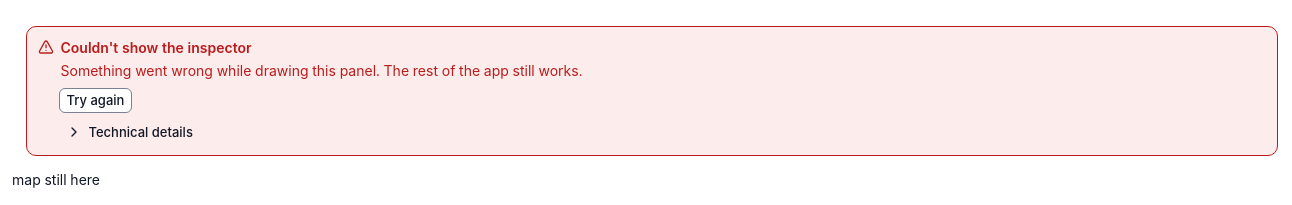
Test case: PanelErrorBoundary › contains the failure to its own panel and offers a retry
The image size is (1292, 205).
Expected: the message shows "Couldn't show the inspector", top-left (60, 38), bottom-right (252, 56)
Expected: the text "map still here" is shown, top-left (12, 170), bottom-right (100, 188)
Click the button "Try again": (95, 100) top-left (58, 88), bottom-right (132, 112)
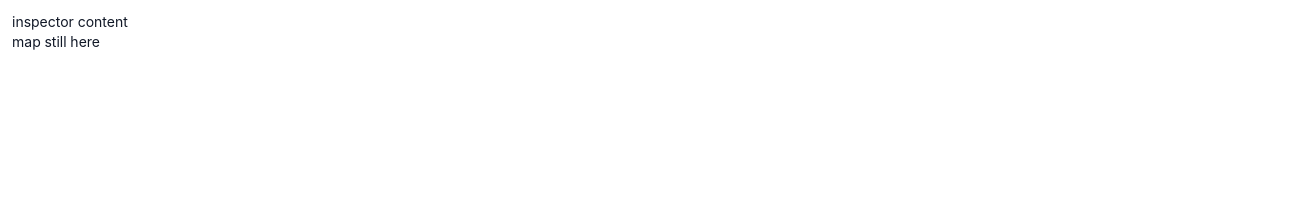
Expected: the text "inspector content" is shown, top-left (12, 13), bottom-right (128, 30)
